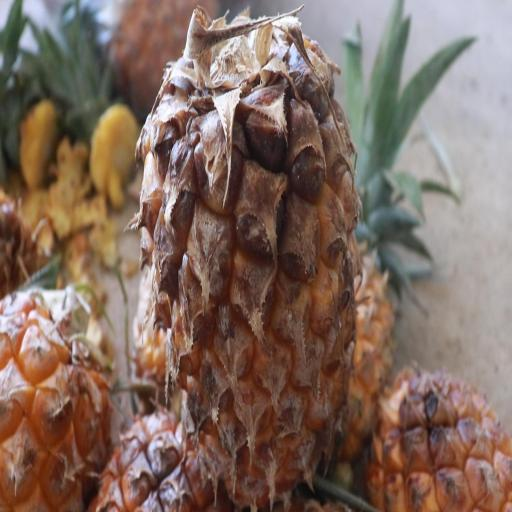Pineapple - v8 v1: (132, 0, 362, 512), (0, 265, 113, 512)
